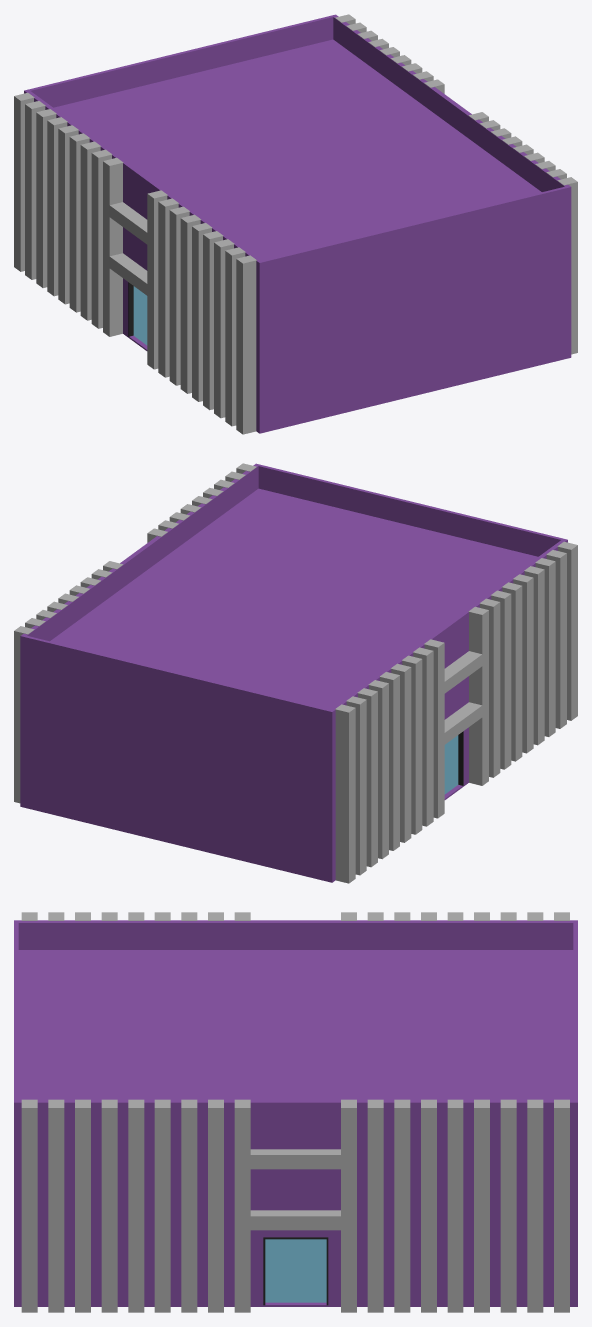
3 views of the same model, one above another, from view 1: azimuth 30°, elevation 25°; view 2: azimuth 150°, elevation 25°; view 3: azimuth 270°, elevation 25° (orthographic). The views are drawn at different scales.
Visible parts, largest first — view 1: pCube1295; view 2: pCube1295; view 3: pCube1295.
Boxes of the visible parts, box(x1,y1,x2,y2) form: pCube1295: box(14, 14, 577, 434); pCube1295: box(14, 463, 577, 883); pCube1295: box(14, 912, 577, 1312).
Bounding box in the file's own units: 69.61 × 34.03 × 84.79.
